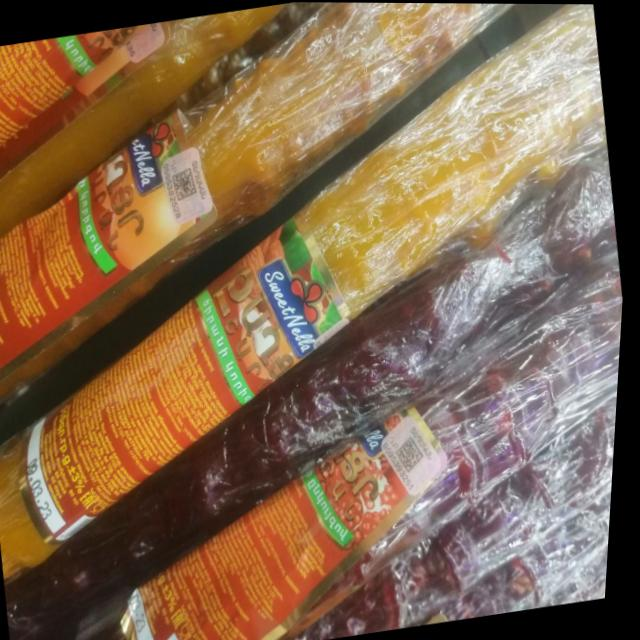datamatrix: (397, 434, 436, 478), (172, 169, 203, 204)
